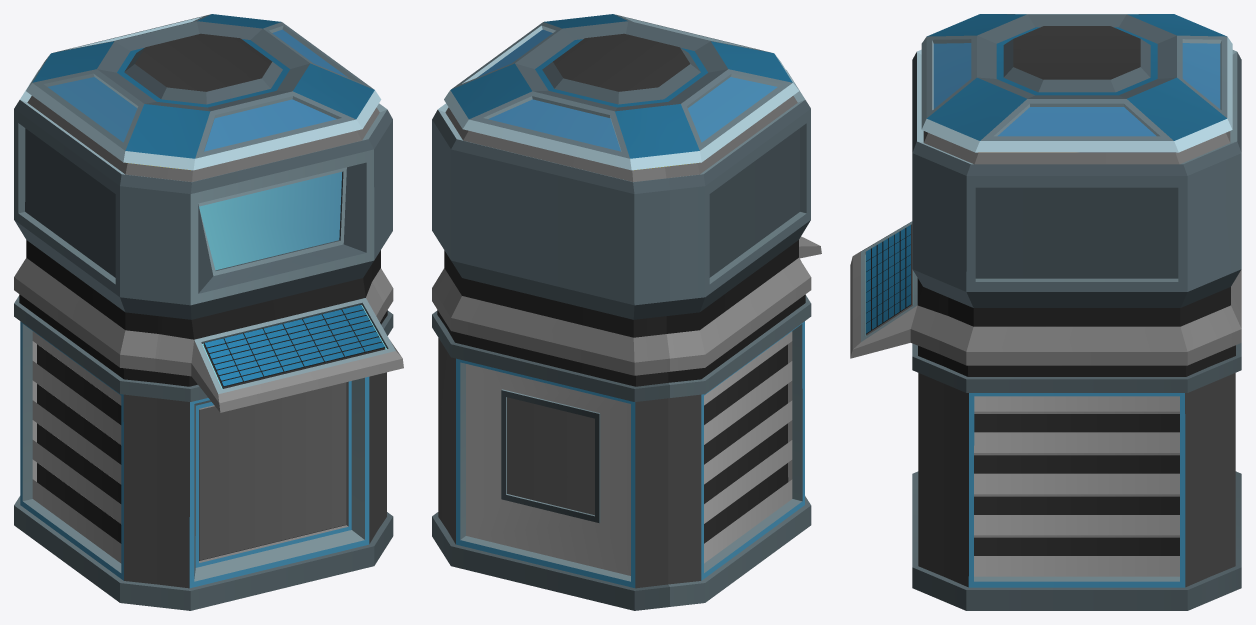
File: Future Kiosk.fbx
3 renders of one model, left to right at view 1: azimuth 30°, elevation 25°; view 2: azimuth 150°, elevation 25°; view 3: azimuth 270°, elevation 25°, orthographic. The views are drawn at different scales.
Parts seen in each view (by area): view 1: Future Kiosk; view 2: Future Kiosk; view 3: Future Kiosk.
Boxes of the visible parts, box(x1,y1,x2,y2) form: Future Kiosk: box(14, 14, 403, 610); Future Kiosk: box(432, 14, 821, 610); Future Kiosk: box(850, 14, 1241, 610).
Size of the model in its own units: 775 by 562 by 473.
Materials: 1 (1 with a texture image).
